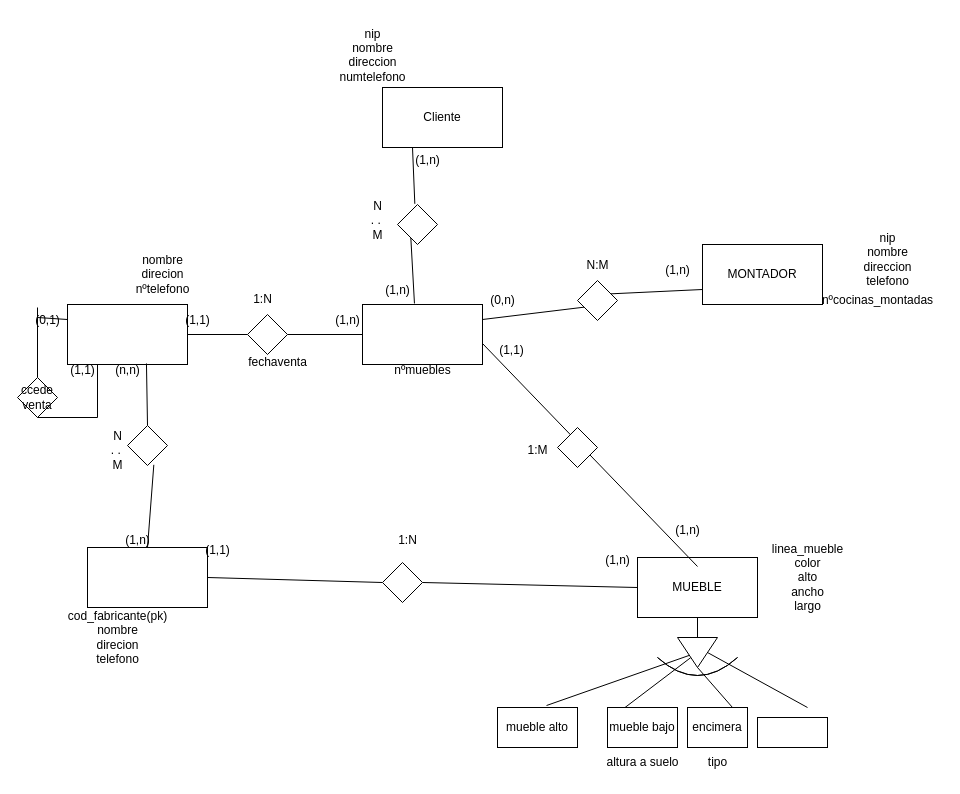
The diagram is 960 pixels wide and 794 high, and some of its shapes have lost their labels. Each missing label, with the box of its shape:
COCINA: (362, 304, 482, 364)
DISTRIBUIDOR: (66, 304, 188, 364)
FABRICANTE: (86, 546, 208, 608)
panel: (756, 716, 828, 748)
